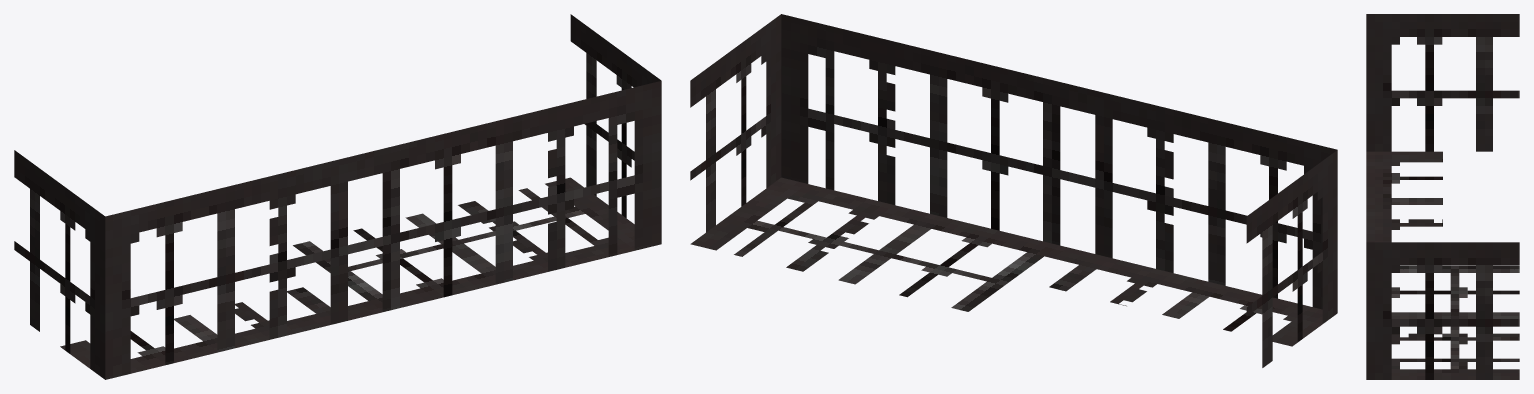
Rendered from balconyLadder_top.glb.
3 views of the same model, side by side, from view 1: azimuth 30°, elevation 25°; view 2: azimuth 150°, elevation 25°; view 3: azimuth 270°, elevation 25° (orthographic). The views are drawn at different scales.
Visible parts, largest first — view 1: balconyLadder_top; view 2: balconyLadder_top; view 3: balconyLadder_top.
Boxes of the visible parts, <box> form: balconyLadder_top: <box>14,14,661,379</box>; balconyLadder_top: <box>690,14,1337,367</box>; balconyLadder_top: <box>1366,14,1519,379</box>.
Bounding box in the file's own units: 1 × 0.2808 × 0.2837.
Materials: 1 (1 with a texture image).
